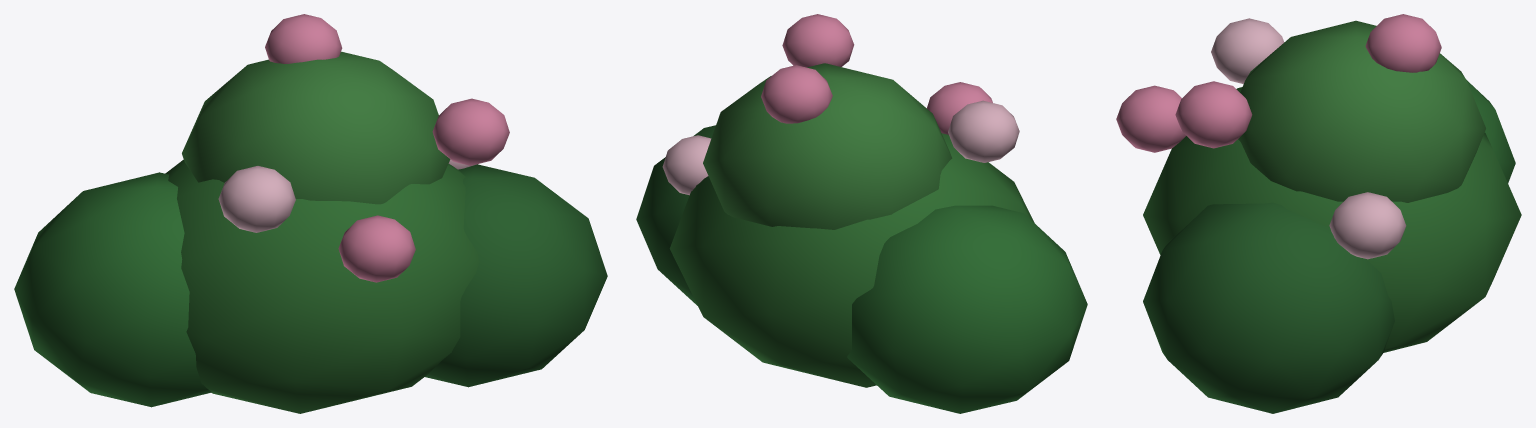
File: bush-flowering.87ea306c.glb
The picture shows the model from 3 angles, left to right: view 1: azimuth 30°, elevation 25°; view 2: azimuth 150°, elevation 25°; view 3: azimuth 270°, elevation 25°; orthographic projection. The views are drawn at different scales.
Visible parts, largest first — view 1: body; view 2: body; view 3: body.
Part boxes in pixels (x1,y1,x2,y2): body: [14, 14, 607, 413]; body: [636, 14, 1087, 413]; body: [1116, 14, 1521, 413].
Size of the model in its own units: 0.98 by 0.625 by 0.685.
